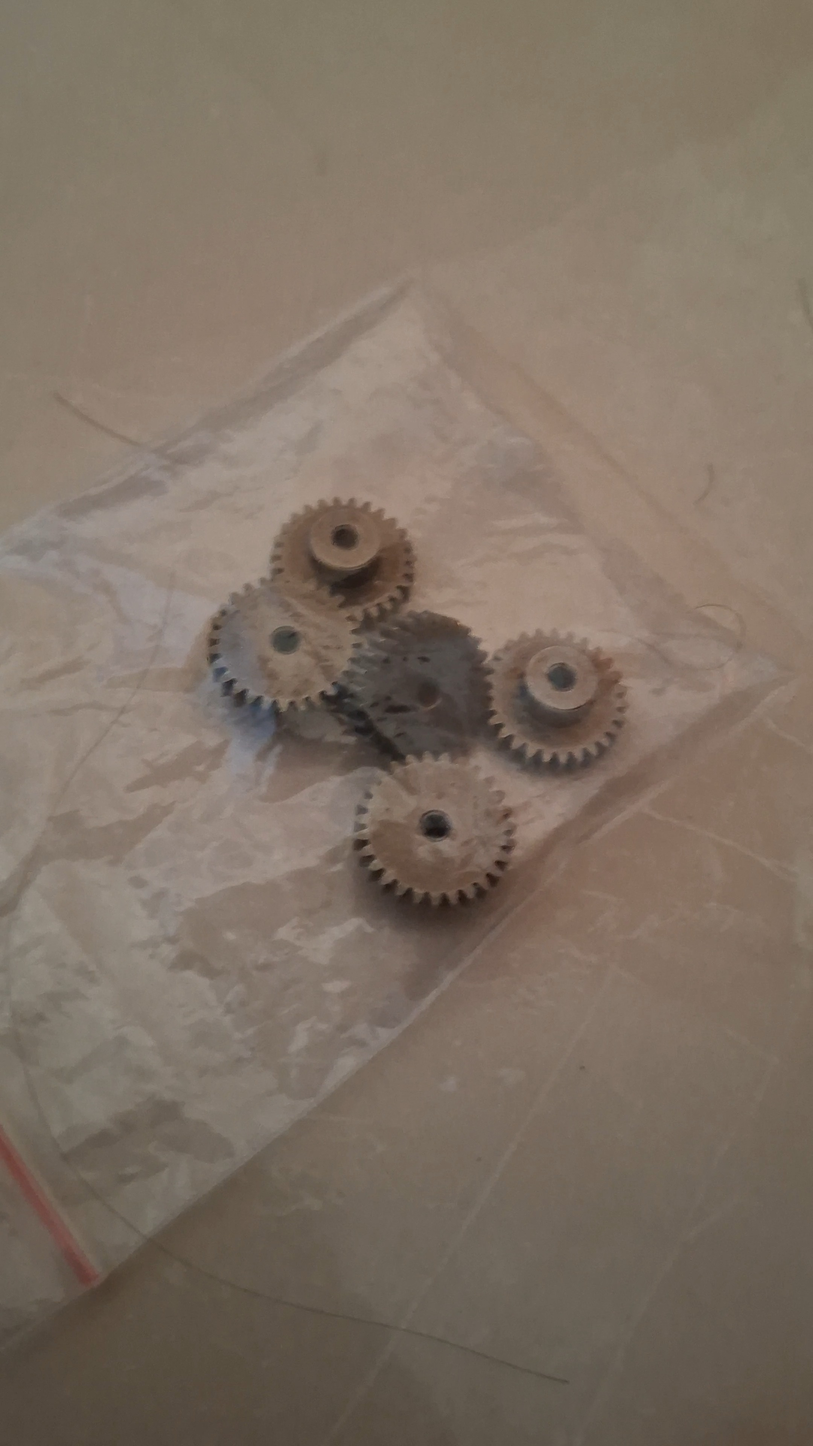spur gear: (354, 756, 515, 905), (344, 611, 487, 758), (208, 581, 356, 712), (489, 632, 627, 769), (271, 499, 414, 623)
